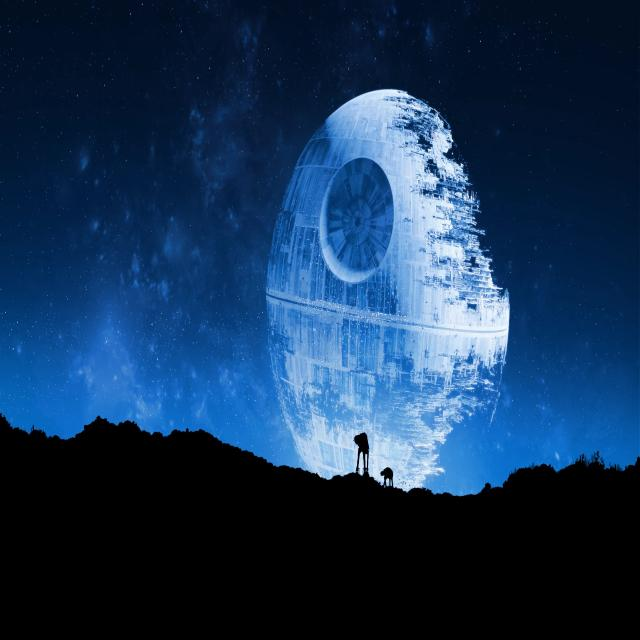deathStar: (264, 85, 510, 500)
